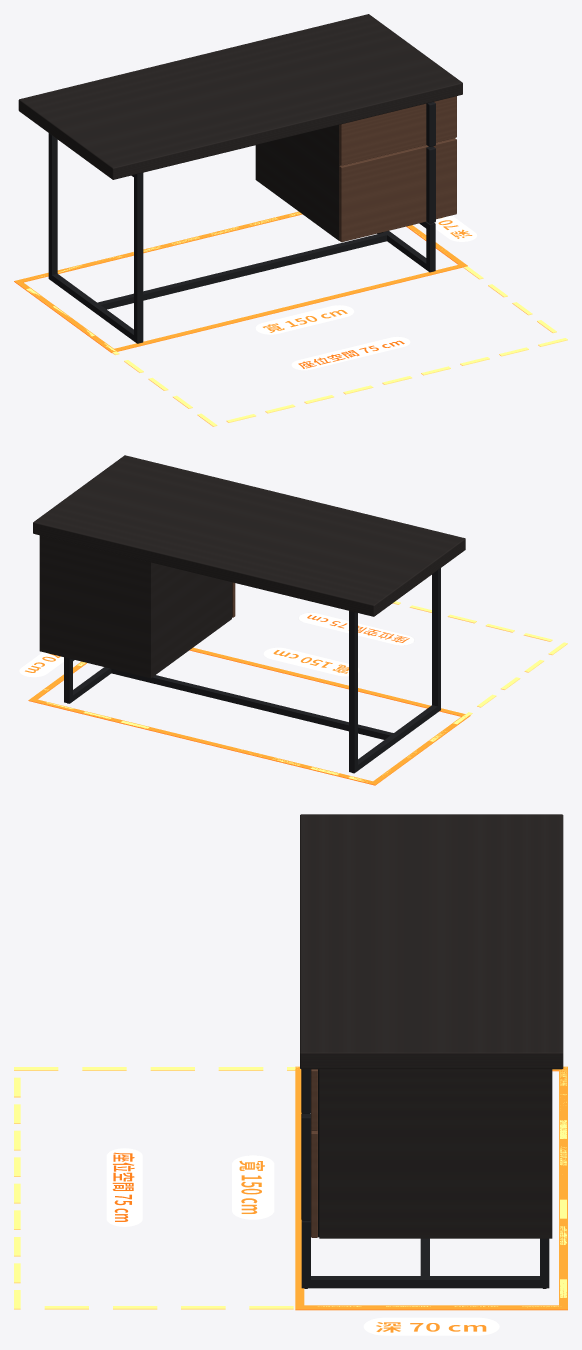
Rendered from ownEgger-f.glb.
The picture shows the model from 3 angles, top to bottom: view 1: azimuth 30°, elevation 25°; view 2: azimuth 150°, elevation 25°; view 3: azimuth 270°, elevation 25°; orthographic projection. The views are drawn at different scales.
Visible parts, largest first — view 1: object 1, ar-frame, object 4, object 2, object 6, object 20, object 16, object 18, object 14, object 5, object 8; view 2: object 1, object 2, ar-frame, object 20, object 18, object 16, object 14, object 8; view 3: object 1, object 2, ar-frame, object 8, object 5, object 4, object 10.
Part boxes in pixels (bbox=[...]): object 1: bbox=[18, 14, 462, 179]; ar-frame: bbox=[14, 211, 567, 426]; object 4: bbox=[339, 138, 456, 242]; object 2: bbox=[255, 125, 339, 240]; object 6: bbox=[339, 96, 456, 165]; object 20: bbox=[97, 232, 386, 309]; object 16: bbox=[134, 173, 143, 343]; object 18: bbox=[48, 133, 57, 280]; object 14: bbox=[48, 273, 143, 343]; object 5: bbox=[426, 146, 435, 223]; object 8: bbox=[377, 231, 435, 272]; object 1: bbox=[33, 455, 465, 616]; object 2: bbox=[39, 535, 231, 678]; ar-frame: bbox=[19, 601, 567, 785]; object 20: bbox=[111, 669, 393, 739]; object 18: bbox=[349, 611, 357, 771]; object 16: bbox=[432, 568, 440, 711]; object 14: bbox=[349, 704, 440, 773]; object 8: bbox=[64, 667, 111, 703]; object 1: bbox=[300, 814, 563, 1069]; object 2: bbox=[319, 1069, 552, 1238]; ar-frame: bbox=[14, 1066, 567, 1335]; object 8: bbox=[301, 1276, 549, 1288]; object 5: bbox=[301, 1113, 310, 1220]; object 4: bbox=[311, 1130, 317, 1237]; object 10: bbox=[301, 1220, 310, 1287].
Bounding box in the file's own units: 1.69 × 0.75 × 1.47.
10 materials, 5 textured.
